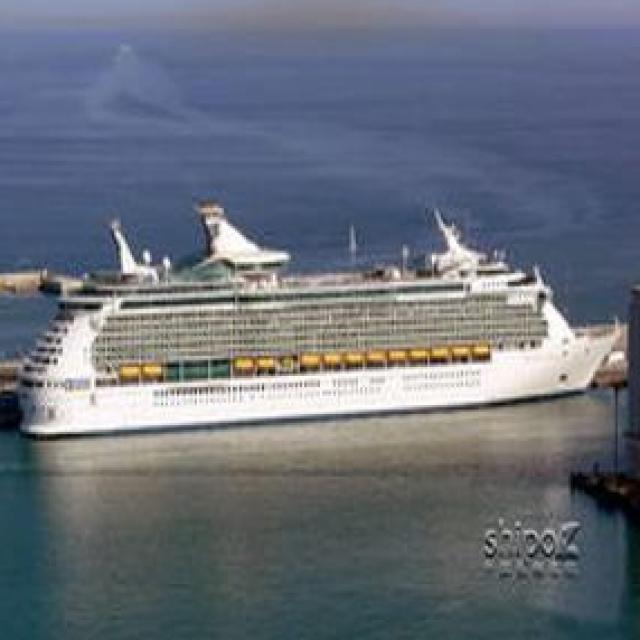passenger ship: (6, 212, 627, 440)
